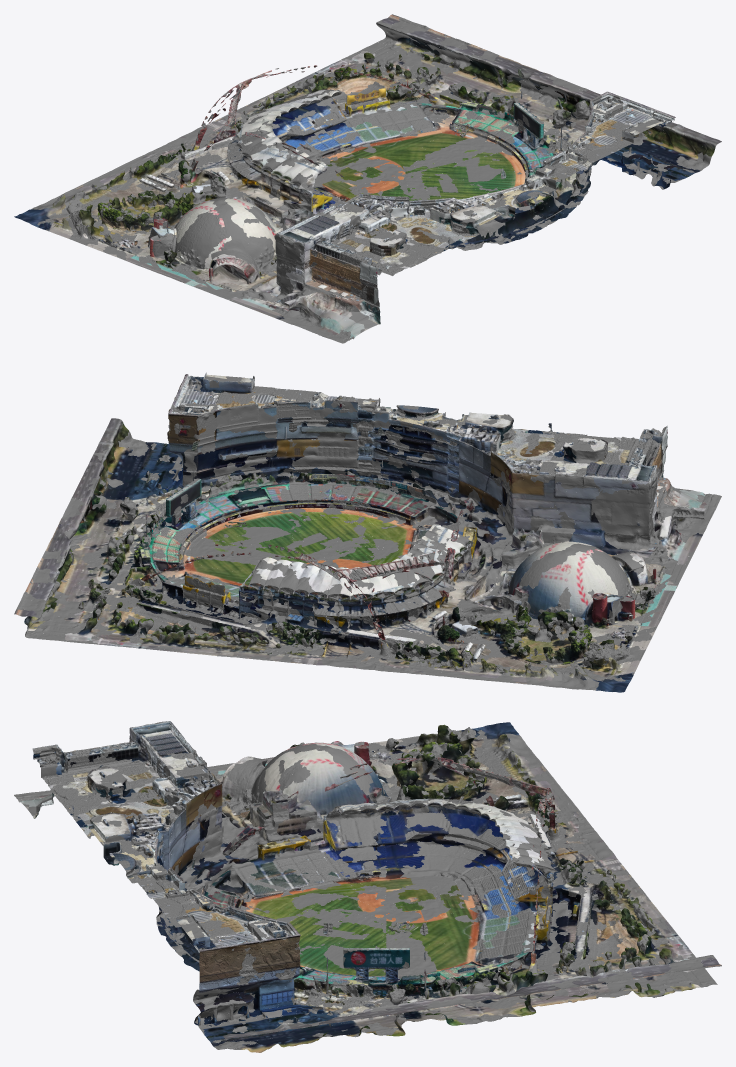
Rendered from taichung-stadium.glb.
3 views of the same model, one above another, from view 1: azimuth 30°, elevation 25°; view 2: azimuth 150°, elevation 25°; view 3: azimuth 270°, elevation 25° (orthographic). The views are drawn at different scales.
Size of the model in its own units: 3.82 by 0.4738 by 3.36.
2 materials, 2 textured.
